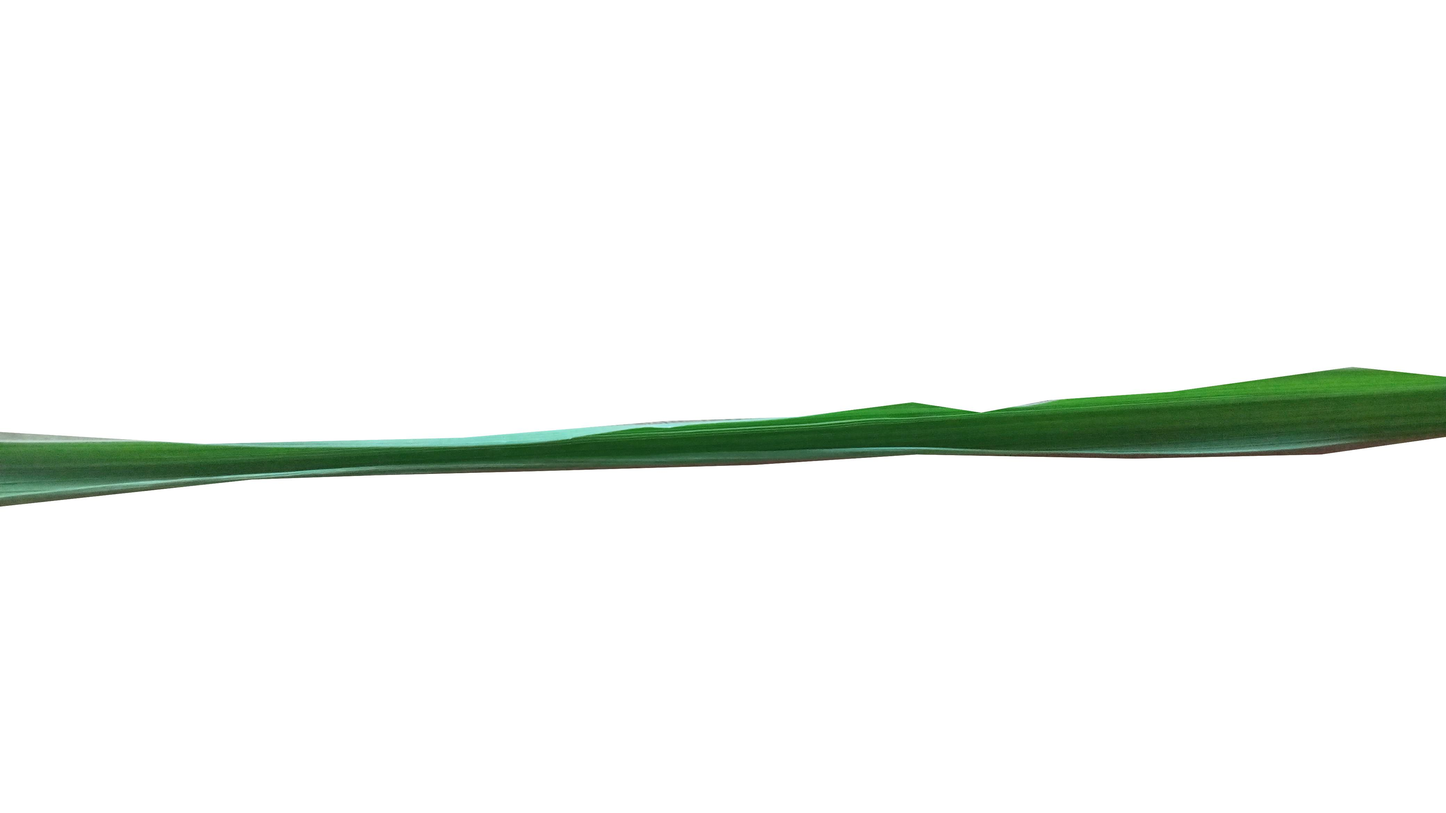Healthy: (0, 370, 1446, 508)
